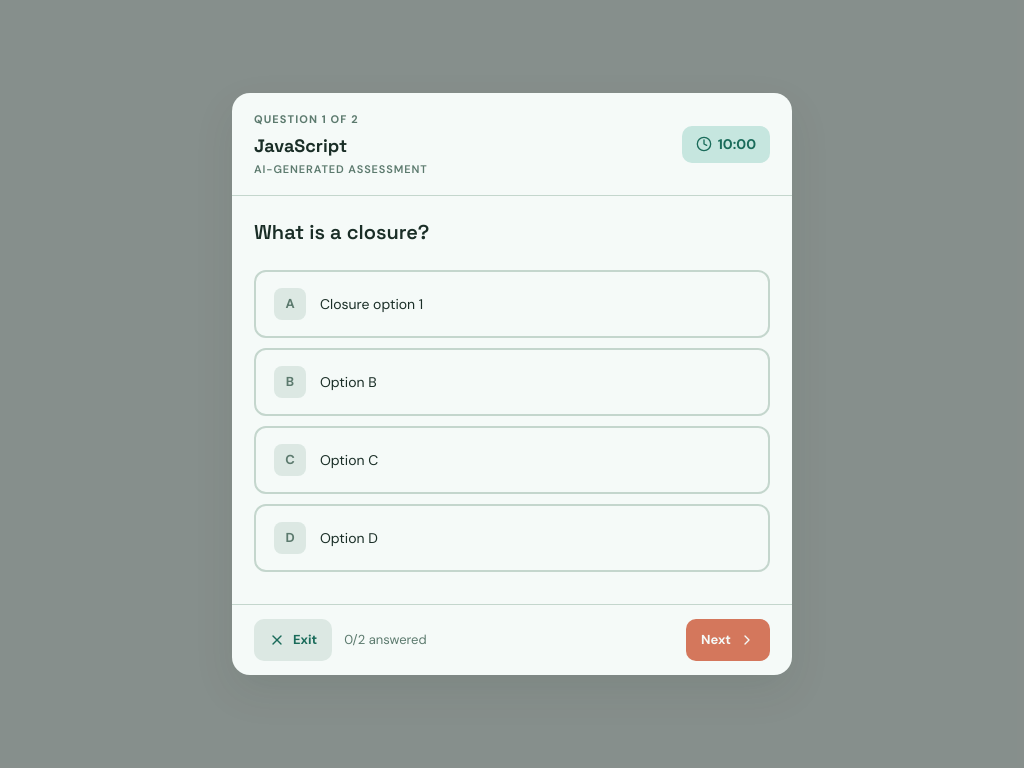
Test case: AssessmentModal › backs up from the second question
Expected: the text "What is a closure?" is shown, x1=254 y1=219 x2=429 y2=245
Click the button "Next".
click(728, 640)  # box x1=686 y1=619 x2=770 y2=661
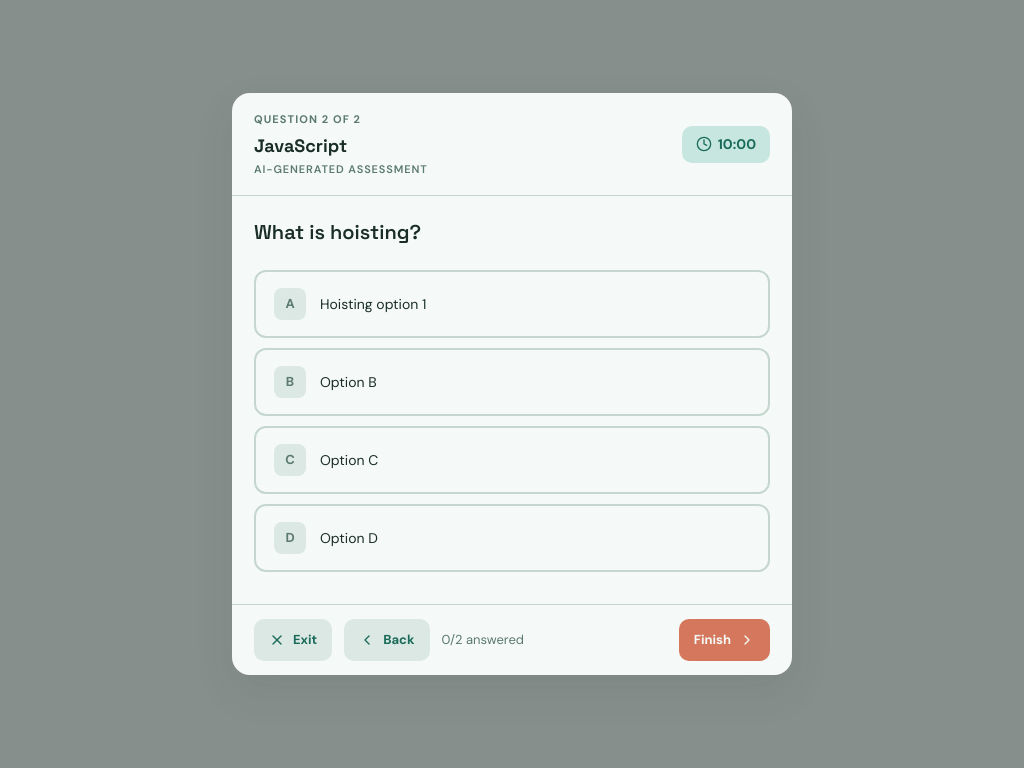
Result: the text "What is hoisting?" is shown at x1=254 y1=219 x2=421 y2=245
Click the button "Back".
click(387, 640)  # box x1=344 y1=619 x2=430 y2=661
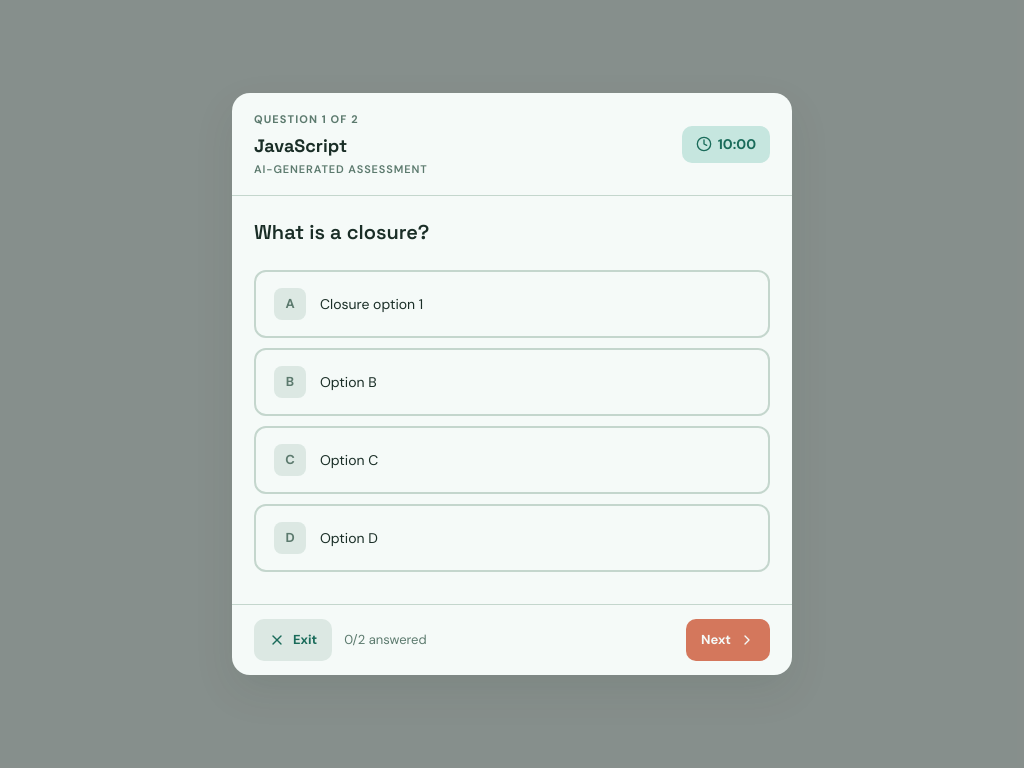
Result: the text "What is a closure?" is shown at x1=254 y1=219 x2=429 y2=245
